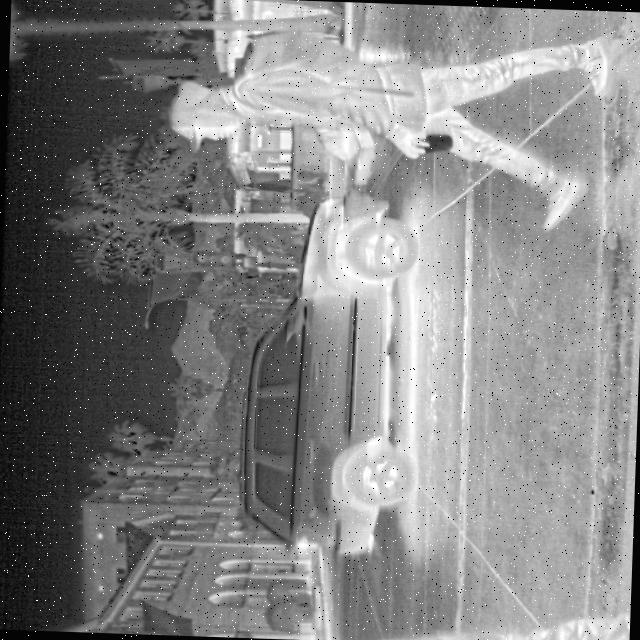Pedestrian: (168, 18, 610, 233)
Vehicle: (230, 185, 428, 559)
